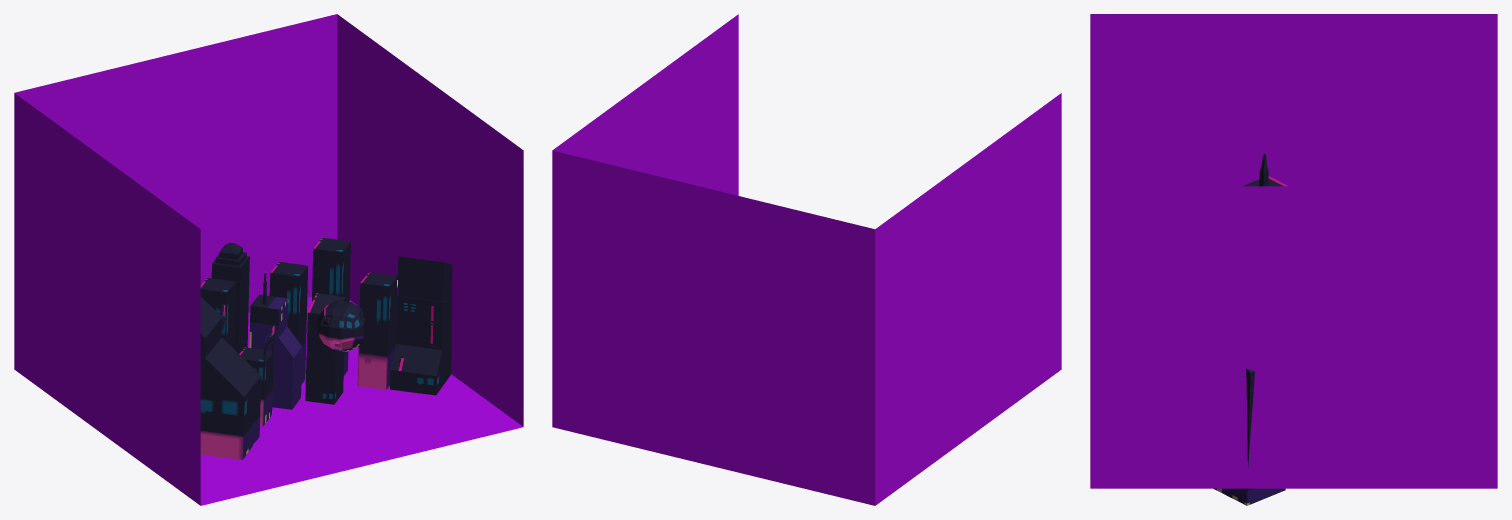
The model's file is teees22w.glb.
The picture shows the model from 3 angles, left to right: view 1: azimuth 30°, elevation 25°; view 2: azimuth 150°, elevation 25°; view 3: azimuth 270°, elevation 25°; orthographic projection. The views are drawn at different scales.
Visible parts, largest first — view 1: Plane, Cube; view 2: Plane; view 3: Plane, Cube.
Boxes of the visible parts, bbox=[...] form: Plane: bbox=[14, 14, 523, 505]; Cube: bbox=[200, 237, 452, 459]; Plane: bbox=[552, 14, 1061, 505]; Plane: bbox=[1090, 14, 1497, 488]; Cube: bbox=[1213, 153, 1288, 505].
Bounding box in the file's own units: 24.82 × 21.43 × 24.56.
Materials: 3 (1 with a texture image).
